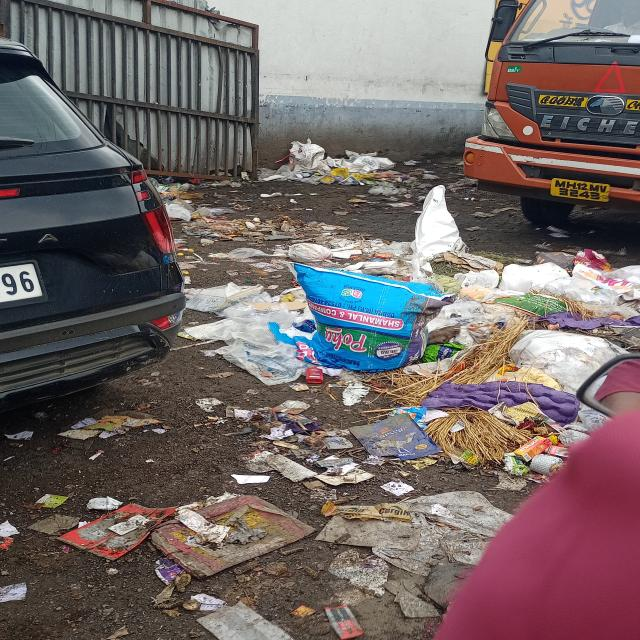garbage: (162, 247, 640, 568), (164, 187, 387, 246), (260, 144, 445, 174)
